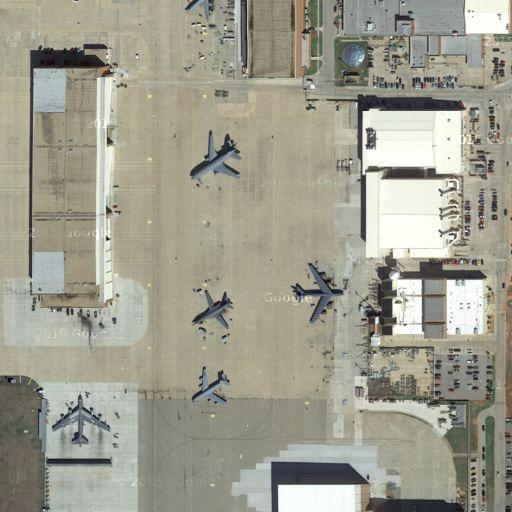B-1B: (191, 285, 236, 330)
B-52: (288, 258, 349, 324), (49, 392, 114, 446)
KC-10: (190, 128, 244, 187)
KC-135: (192, 364, 232, 409)
